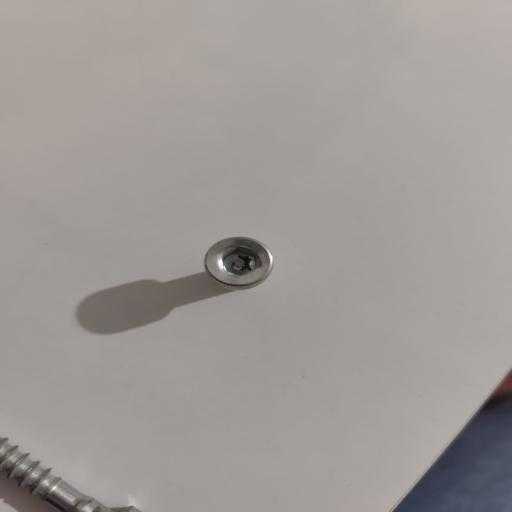Hex-Allen: (192, 234, 279, 294)
